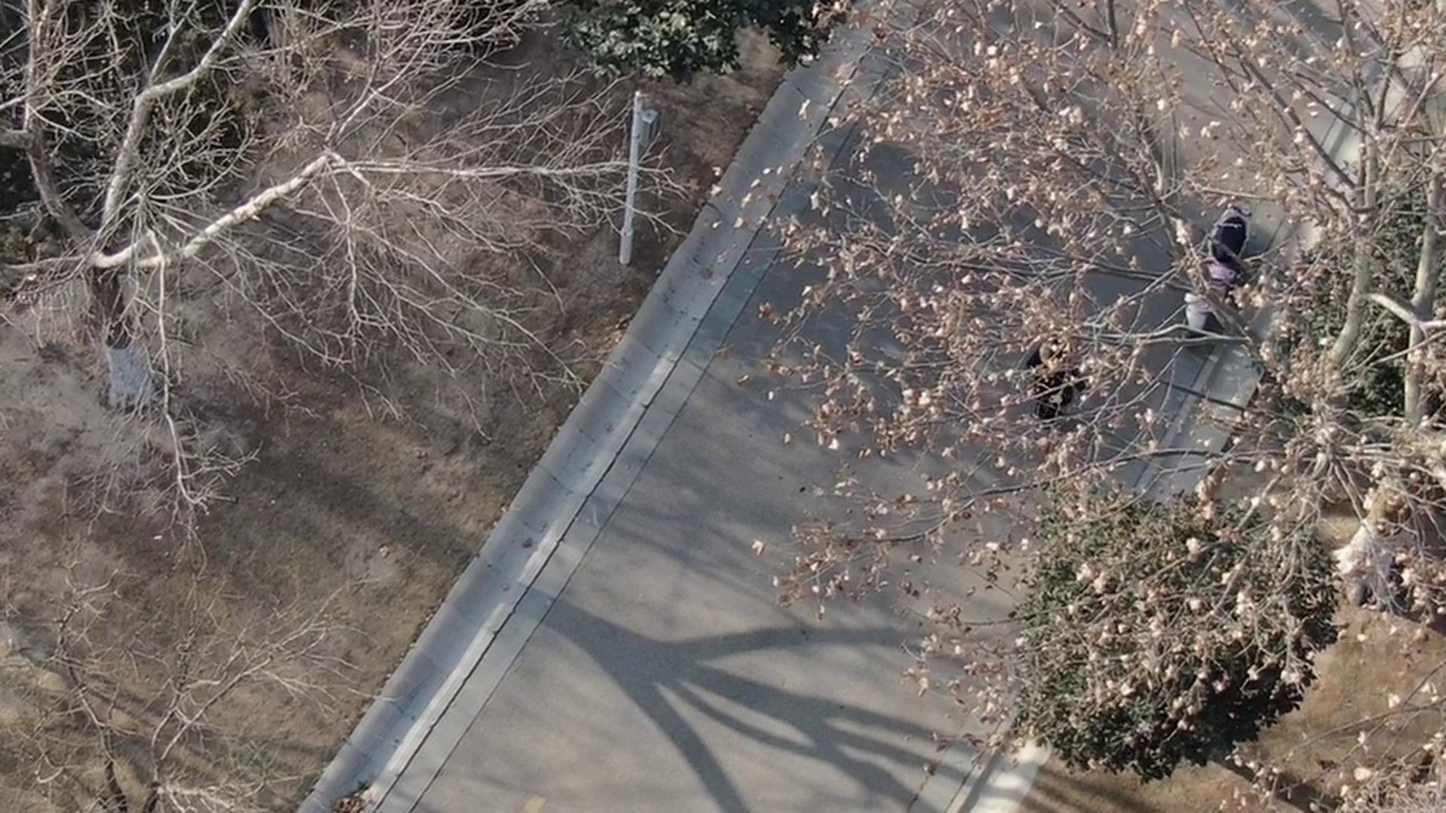human: (1013, 311, 1075, 422)
